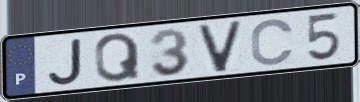3: (147, 26, 191, 79)
5: (305, 11, 343, 63)
C: (249, 17, 297, 68)
J: (46, 36, 85, 87)
Q: (93, 31, 143, 84)
V: (196, 18, 245, 75)
